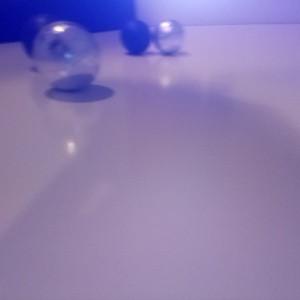alive_ball: (33, 21, 102, 92), (153, 19, 185, 53)
dead_ball: (21, 14, 65, 59), (119, 20, 153, 54)
